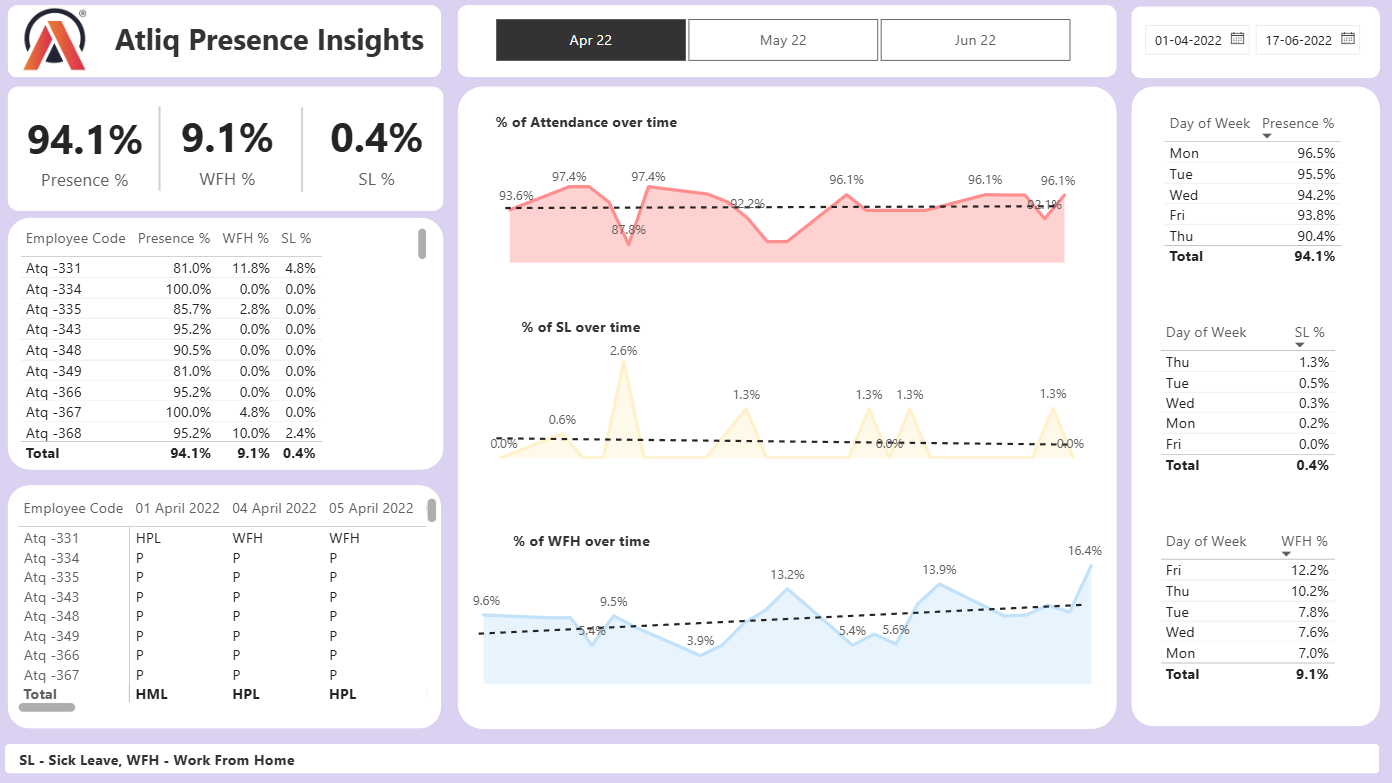

The dashboard page shown, as its layout file describes it:
{"tool":"powerbi","page":{"name":"Page 1","canvas":[1280,720],"ordinal":0},"visuals":[{"type":"shape","box":[1040,6.2,228.8,66.2],"z":0},{"type":"shape","box":[421.2,5,606.2,66.2],"z":1000},{"type":"shape","box":[6.9,4.6,398.9,66.7],"z":2000},{"type":"shape","box":[6.9,79.3,401.1,114.9],"z":3000},{"type":"shape","box":[5,683.8,1263.8,27.5],"z":4000},{"type":"shape","box":[1040,78.8,228.8,588.8],"z":5000},{"type":"shape","box":[421.2,78.8,606.2,591.2],"z":6000},{"type":"shape","box":[6.9,446,398.9,224.1],"z":7000},{"type":"shape","box":[6.9,200,401.1,232.2],"z":8000},{"type":"card","fields":{"Values":["Measure Table.Presence %"]},"box":[16.1,89.7,124.1,96.6],"z":9000},{"type":"slicer","fields":{"Values":["Final Data.Month"]},"box":[430,10,578.8,52.5],"z":10000},{"type":"card","fields":{"Values":["Measure Table.WFH %"]},"box":[139.8,88.5,138,96],"z":11000},{"type":"card","fields":{"Values":["Measure Table.SL %"]},"box":[286.3,88.5,121,96],"z":12000},{"type":"tableEx","fields":{"Values":["Final Data.Employee Code","Measure Table.Presence %","Measure Table.WFH %","Measure Table.SL %"]},"box":[12.5,205,385,225],"z":13000},{"type":"pivotTable","fields":{"Values":["Min(Final Data.Value)"],"Columns":["Final Data.Date"],"Rows":["Final Data.Employee Code"]},"box":[11,453,395,207],"z":14000},{"type":"areaChart","fields":{"Y":["Measure Table.Presence %"],"Category":["Final Data.Date"]},"box":[454.2,144,540,103],"z":15000},{"type":"tableEx","fields":{"Values":["Final Data.Day of Week","Measure Table.Presence %"]},"box":[1064.6,98.8,178.8,152.5],"z":16000},{"type":"areaChart","fields":{"Y":["Measure Table.WFH %"],"Category":["Final Data.Date"]},"box":[429.9,482.5,588.8,152.5],"z":17000},{"type":"areaChart","fields":{"Y":["Measure Table.SL %"],"Category":["Final Data.Date"]},"box":[446.1,302.9,556.2,123.8],"z":18000},{"type":"tableEx","fields":{"Values":["Final Data.Day of Week","Measure Table.SL %"]},"box":[1060.8,290.6,186.2,152.5],"z":19000},{"type":"tableEx","fields":{"Values":["Final Data.Day of Week","Measure Table.WFH %"]},"box":[1060.8,482.5,186.2,152.5],"z":20000},{"type":"slicer","fields":{"Values":["Final Data.Date"]},"box":[1040,12.5,240,46.2],"z":21000},{"type":"textbox","box":[12.5,683.8,290,27.5],"z":22000},{"type":"textbox","box":[97.7,12.6,300,71.3],"z":23000},{"type":"textbox","box":[443.8,97.5,191.2,27.5],"z":24000},{"type":"textbox","box":[437.5,286.2,192.5,31.2],"z":25000},{"type":"textbox","box":[438.8,482.5,191.2,33.8],"z":26000},{"type":"image","box":[16.1,0,70.1,71.3],"z":27000},{"type":"shape","box":[137.5,97.5,17.5,77.5],"z":28000},{"type":"shape","box":[268.8,98.8,17.5,77.5],"z":29000}]}

Visuals, with their boxes in screenshot pixels (x1, y1, x2, y2), scaled from the page's 1280x720 canvas onto the 1392x783 screenshot:
shape: 1131,7,1380,79
shape: 458,5,1117,77
shape: 8,5,441,78
shape: 8,86,444,211
shape: 5,744,1380,774
shape: 1131,86,1380,726
shape: 458,86,1117,729
shape: 8,485,441,729
shape: 8,217,444,470
card - Measure Table.Presence %: 18,98,152,203
slicer - Final Data.Month: 468,11,1097,68
card - Measure Table.WFH %: 152,96,302,201
card - Measure Table.SL %: 311,96,443,201
tableEx - Final Data.Employee Code x Measure Table.Presence %: 14,223,432,468
pivotTable - Min(Final Data.Value) x Final Data.Date: 12,493,442,718
areaChart - Measure Table.Presence % x Final Data.Date: 494,157,1081,269
tableEx - Final Data.Day of Week x Measure Table.Presence %: 1158,107,1352,273
areaChart - Measure Table.WFH % x Final Data.Date: 468,525,1108,691
areaChart - Measure Table.SL % x Final Data.Date: 485,329,1090,464
tableEx - Final Data.Day of Week x Measure Table.SL %: 1154,316,1356,482
tableEx - Final Data.Day of Week x Measure Table.WFH %: 1154,525,1356,691
slicer - Final Data.Date: 1131,14,1391,64
textbox: 14,744,329,774
textbox: 106,14,432,91
textbox: 483,106,691,136
textbox: 476,311,685,345
textbox: 477,525,685,561
image: 18,0,94,78
shape: 150,106,169,190
shape: 292,107,311,192
